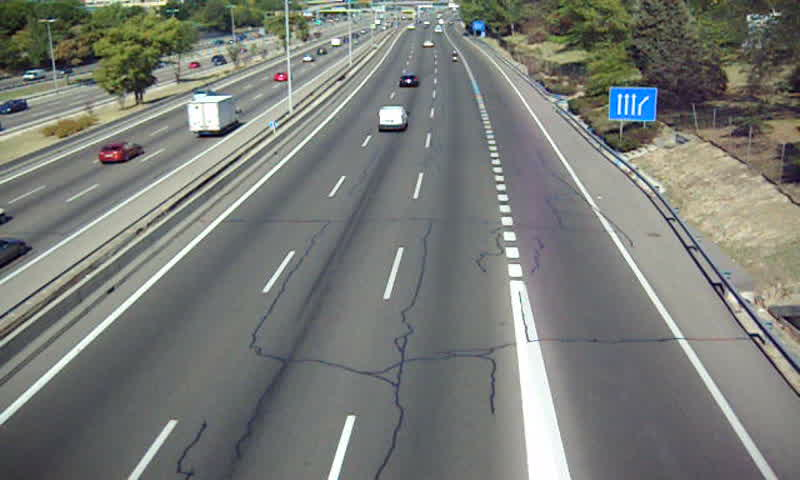car: (398, 74, 419, 87)
van: (378, 105, 411, 131)
